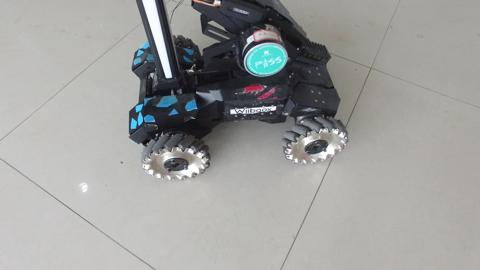chariot: (98, 7, 344, 176)
